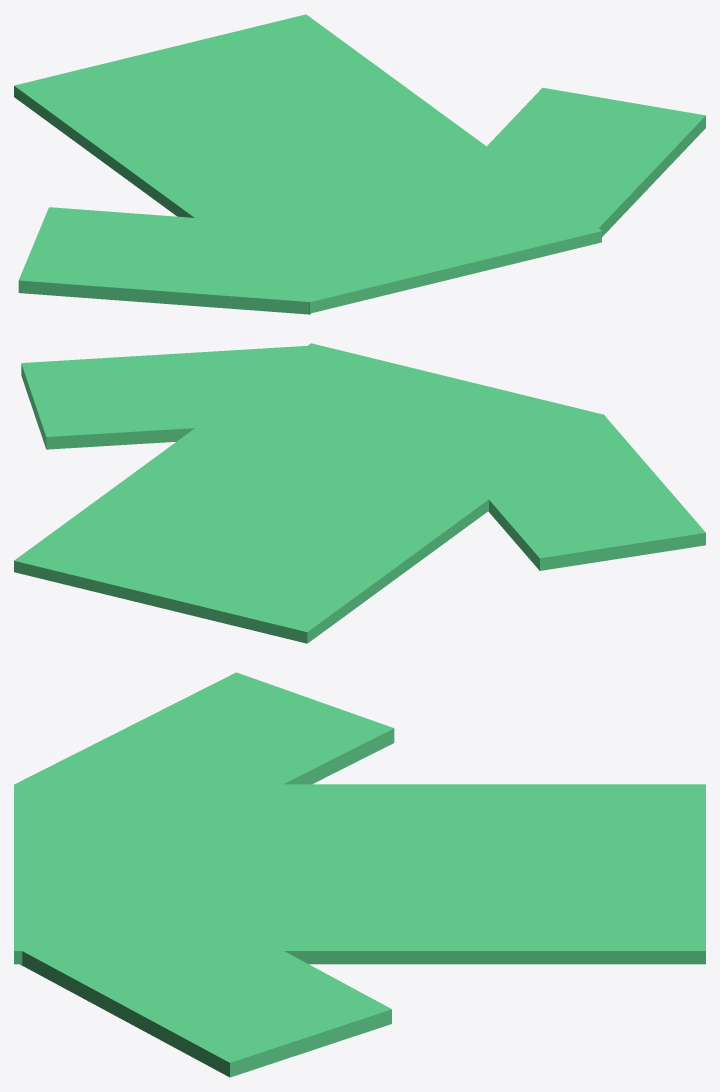
Rendered from tshirt.gltf.
The picture shows the model from 3 angles, top to bottom: view 1: azimuth 30°, elevation 25°; view 2: azimuth 150°, elevation 25°; view 3: azimuth 270°, elevation 25°; orthographic projection. The views are drawn at different scales.
Parts seen in each view (by area): view 1: Object.1, Object.3, Object.2; view 2: Object.1, Object.3, Object.2; view 3: Object.1, Object.3, Object.2.
Boxes of the visible parts, left/top/right/bottom form: Object.1: left=14, top=14, right=601, bottom=313; Object.3: left=432, top=87, right=705, bottom=236; Object.2: left=18, top=207, right=310, bottom=314; Object.1: left=14, top=343, right=604, bottom=643; Object.3: left=21, top=345, right=339, bottom=449; Object.2: left=488, top=415, right=705, bottom=570; Object.1: left=14, top=784, right=705, bottom=964; Object.3: left=16, top=895, right=391, bottom=1077; Object.2: left=15, top=672, right=394, bottom=784.
Size of the model in its own units: 53.42 by 0.9354 by 40.
